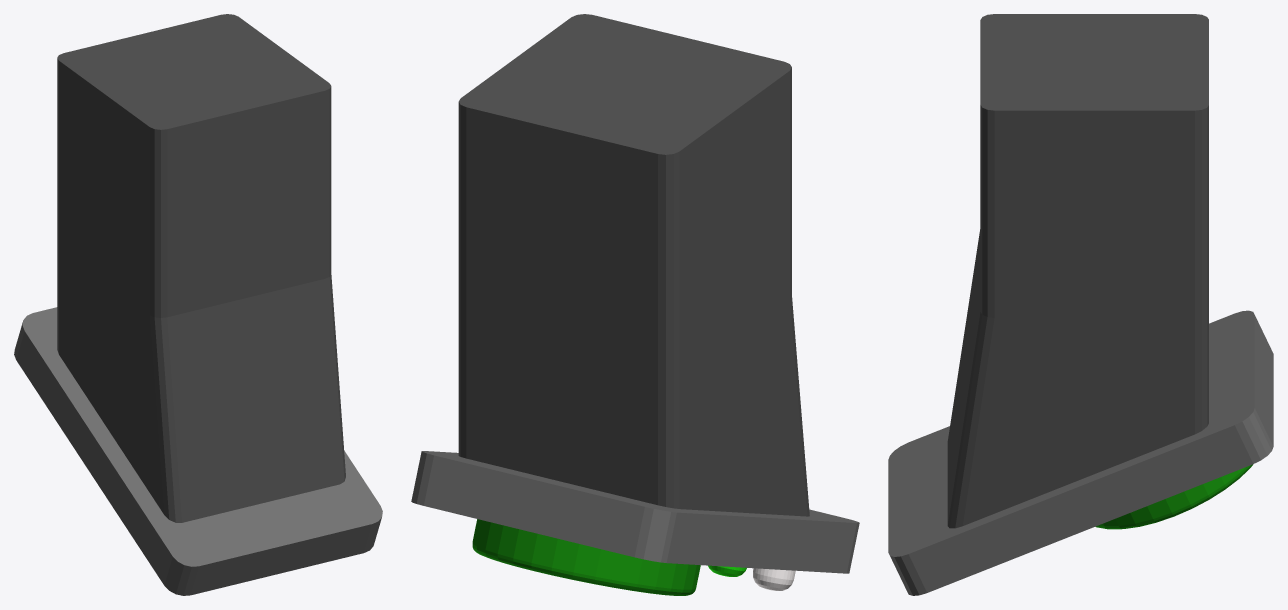
File: ANM_ENV_FUT_BEDIENFELD_Down.fbx
The picture shows the model from 3 angles, left to right: view 1: azimuth 30°, elevation 25°; view 2: azimuth 150°, elevation 25°; view 3: azimuth 270°, elevation 25°; orthographic projection. The views are drawn at different scales.
Parts seen in each view (by area): view 1: Cube.002, Hauptkörper.002; view 2: Cube.002, Hauptkörper.002, Button.002, rot.002; view 3: Cube.002, Hauptkörper.002, Button.002.
Part boxes in pixels (bbox=[...]): Cube.002: bbox=[57, 14, 345, 522]; Hauptkörper.002: bbox=[14, 307, 382, 595]; Cube.002: bbox=[458, 14, 809, 516]; Hauptkörper.002: bbox=[411, 451, 859, 573]; Button.002: bbox=[472, 519, 700, 595]; rot.002: bbox=[753, 568, 795, 590]; Cube.002: bbox=[947, 14, 1208, 528]; Hauptkörper.002: bbox=[888, 310, 1273, 595]; Button.002: bbox=[1095, 464, 1253, 529].
Size of the model in its own units: 132 by 267 by 193.
